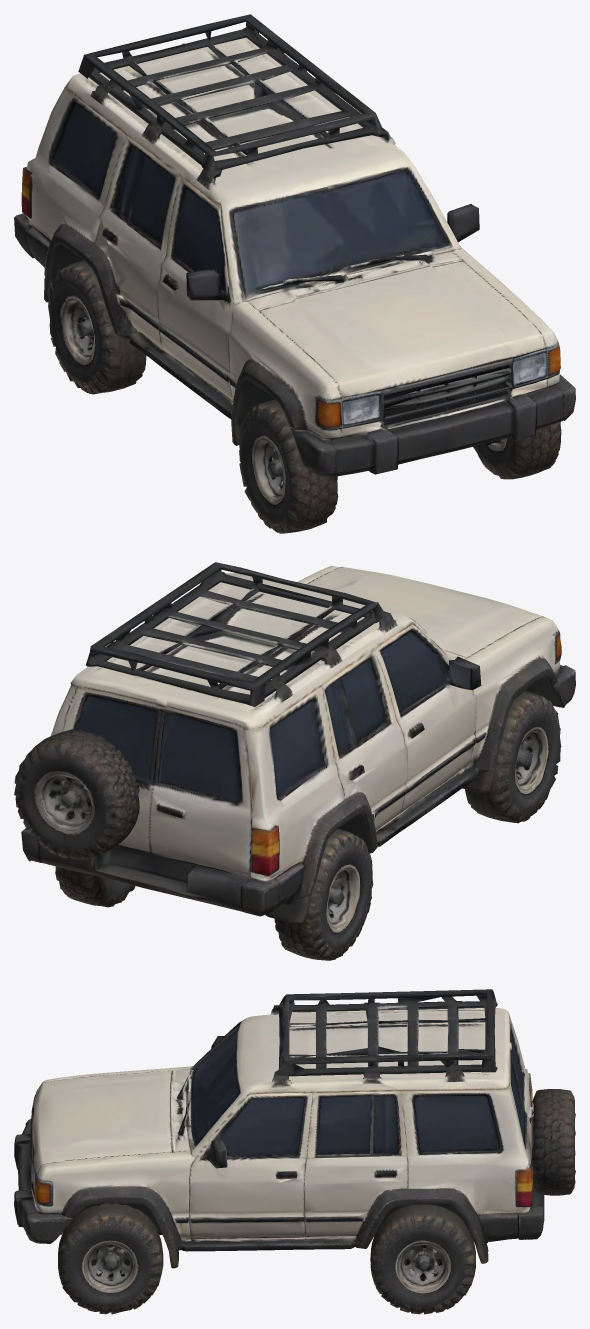
Rendered from car_4x4.glb.
3 views of the same model, one above another, from view 1: azimuth 30°, elevation 25°; view 2: azimuth 150°, elevation 25°; view 3: azimuth 270°, elevation 25° (orthographic). The views are drawn at different scales.
Size of the model in its own units: 0.4777 by 0.4651 by 0.9801.
Materials: 1 (1 with a texture image).
